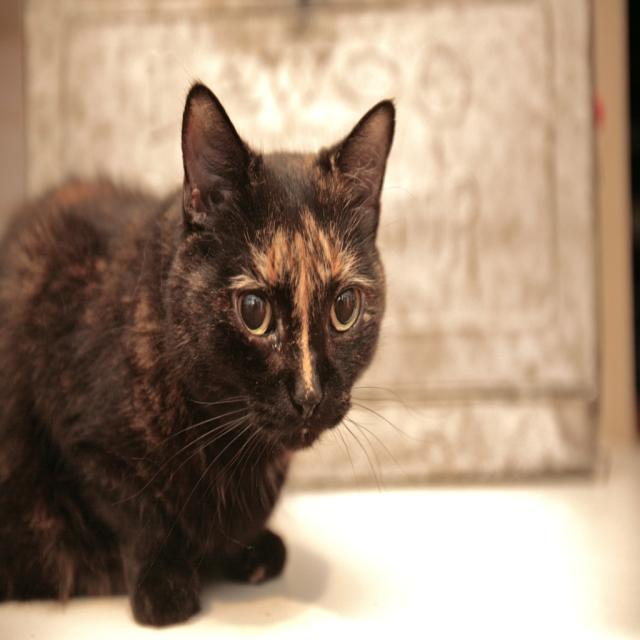Cat: (0, 72, 399, 623)
